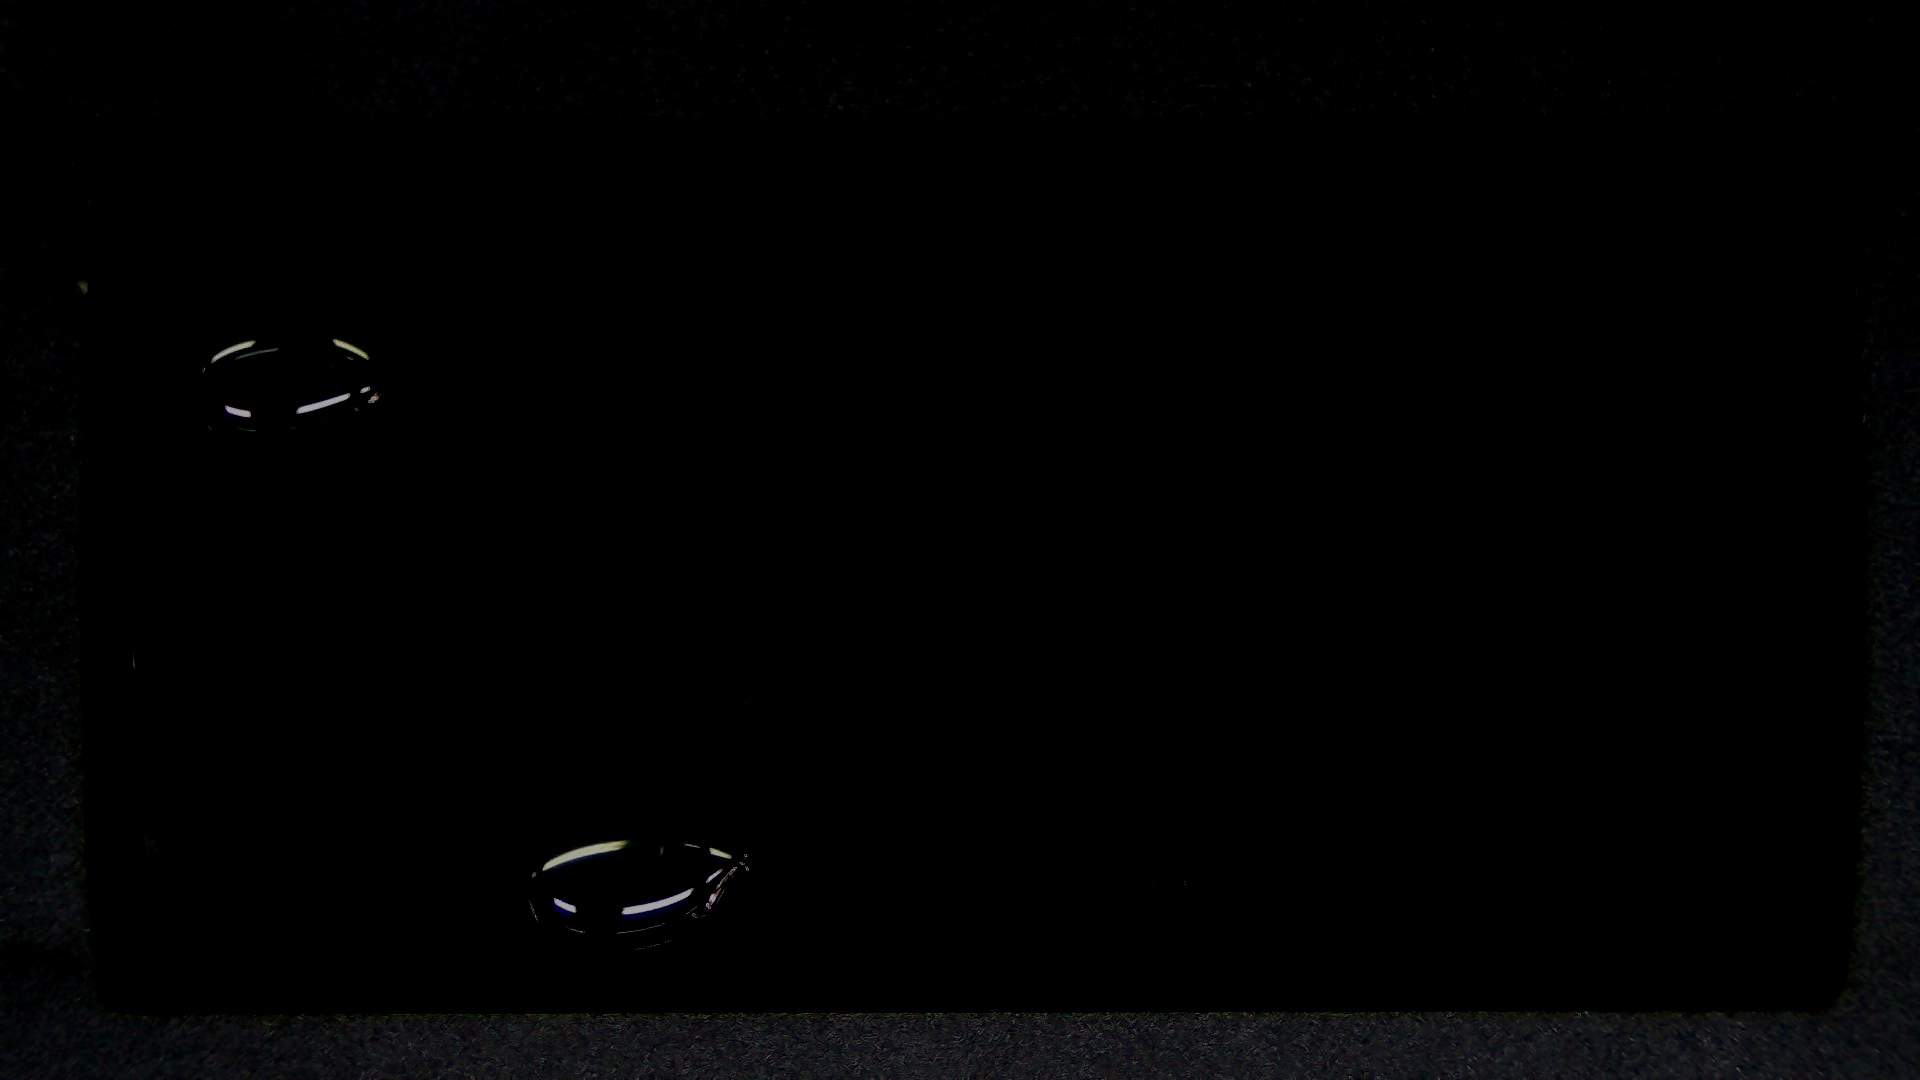oil: (318, 409, 952, 1080), (150, 161, 450, 484)
